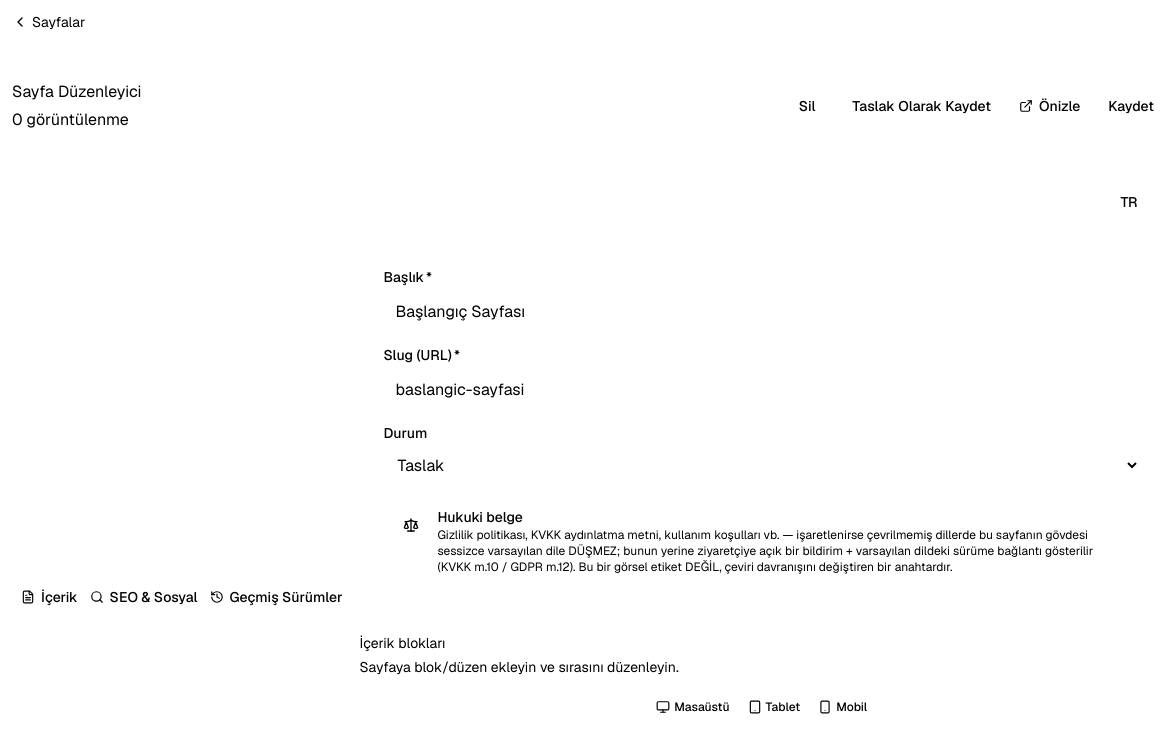
Scenario: PageBuilderPage — zamanlanmış yayın (Faz 4) › status='SCHEDULED' seçildiğinde datetime-local input görünür, min='şimdi' set edilir; diğer durumlarda gizlidir
Expected: the field showing "Başlangıç Sayfası" is shown, [383,293,1140,329]
Expected: the field labelled "Yayın tarihi" is not shown
Select "Zamanlanmış" in the dropdown labelled "Durum": (762, 465) [383,449,1140,481]
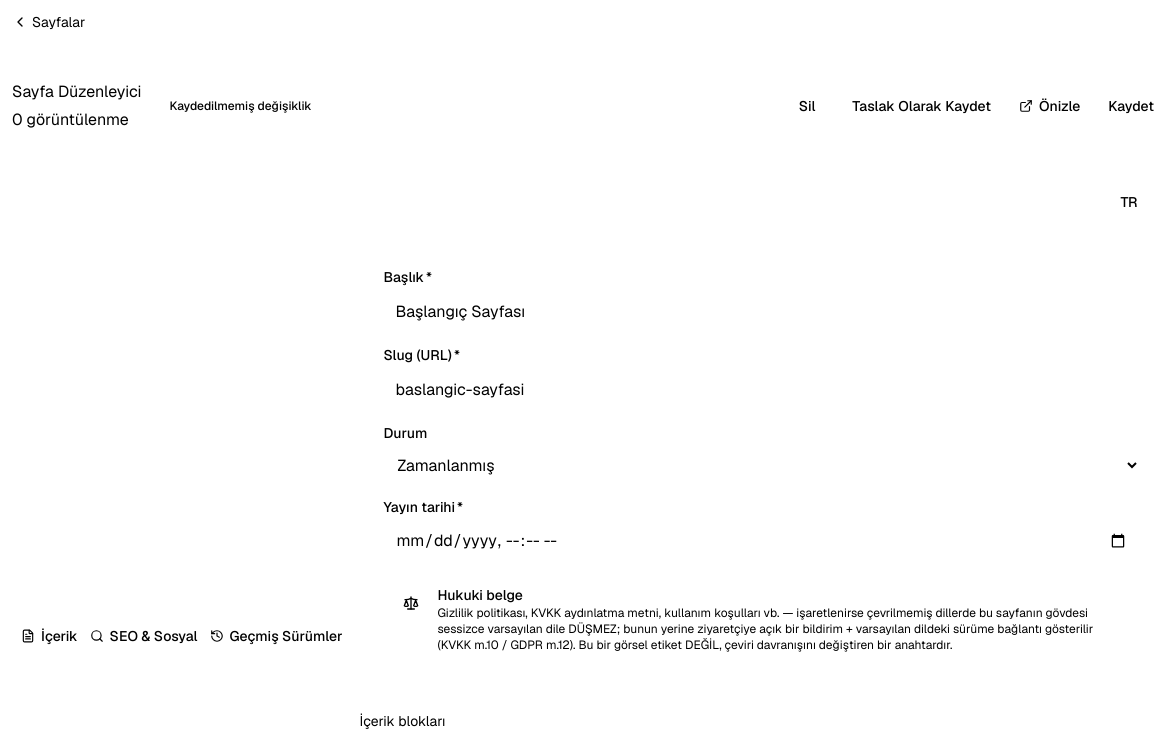
Select "Taslak" in the dropdown labelled "Durum": (762, 465) [383,449,1140,481]
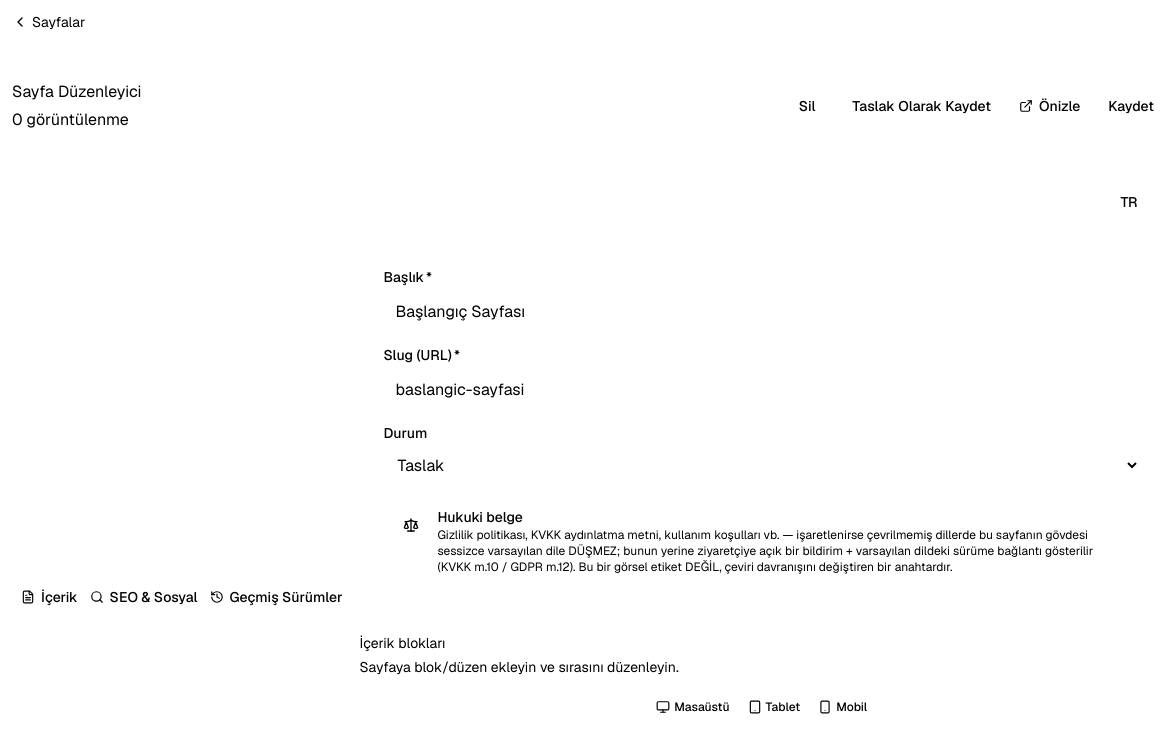
Now the label labelled "Yayın tarihi" is gone
